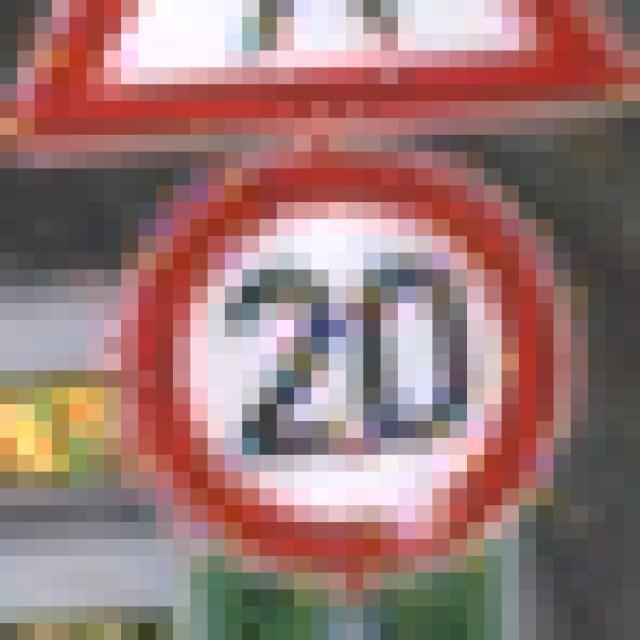Ograniczenie predkosci do 20: (123, 152, 571, 572)
